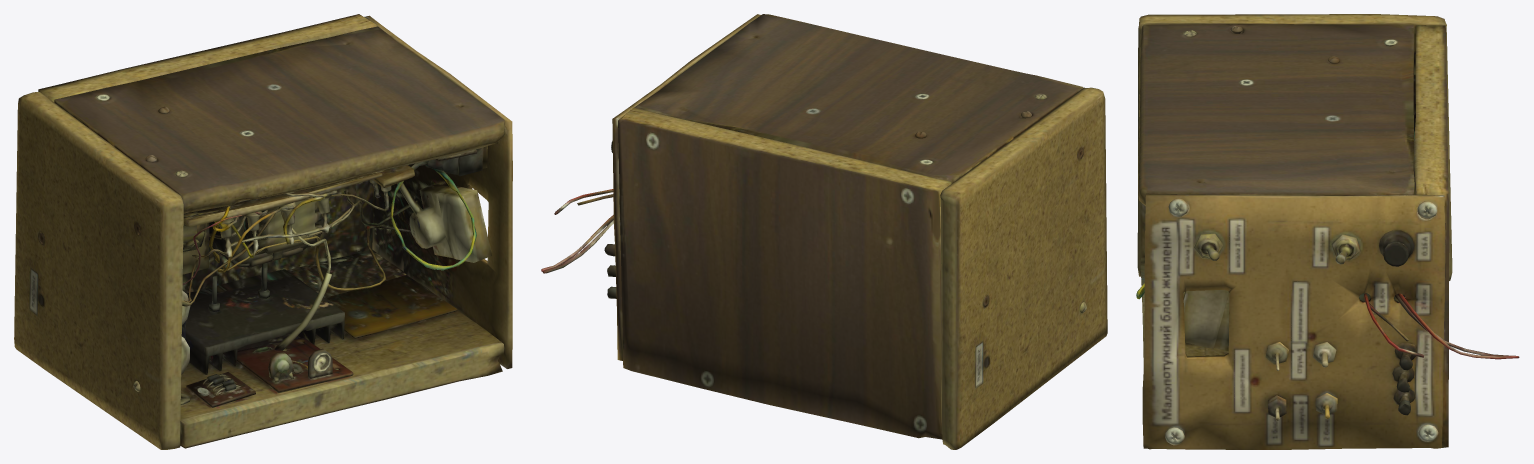
The model's file is PB157_PowerSupply_Low.obj.
The picture shows the model from 3 angles, left to right: view 1: azimuth 30°, elevation 25°; view 2: azimuth 150°, elevation 25°; view 3: azimuth 270°, elevation 25°; orthographic projection. The views are drawn at different scales.
Parts seen in each view (by area): view 1: PowerSupply_Low_polySurface1; view 2: PowerSupply_Low_polySurface1; view 3: PowerSupply_Low_polySurface1.
Part boxes in pixels (box(x1,y1,x2,y2)): PowerSupply_Low_polySurface1: box(14, 14, 512, 449); PowerSupply_Low_polySurface1: box(541, 14, 1107, 449); PowerSupply_Low_polySurface1: box(1136, 14, 1519, 449).
Size of the model in its own units: 31.76 by 18.58 by 23.99.
